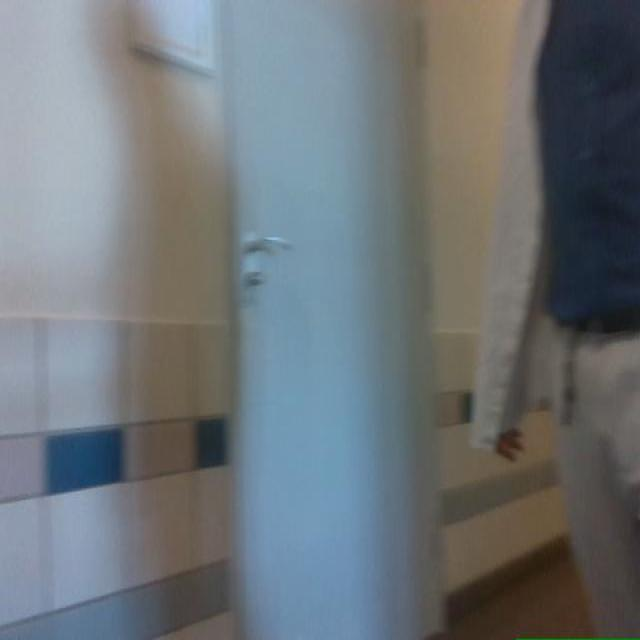humans: (472, 0, 639, 635)
